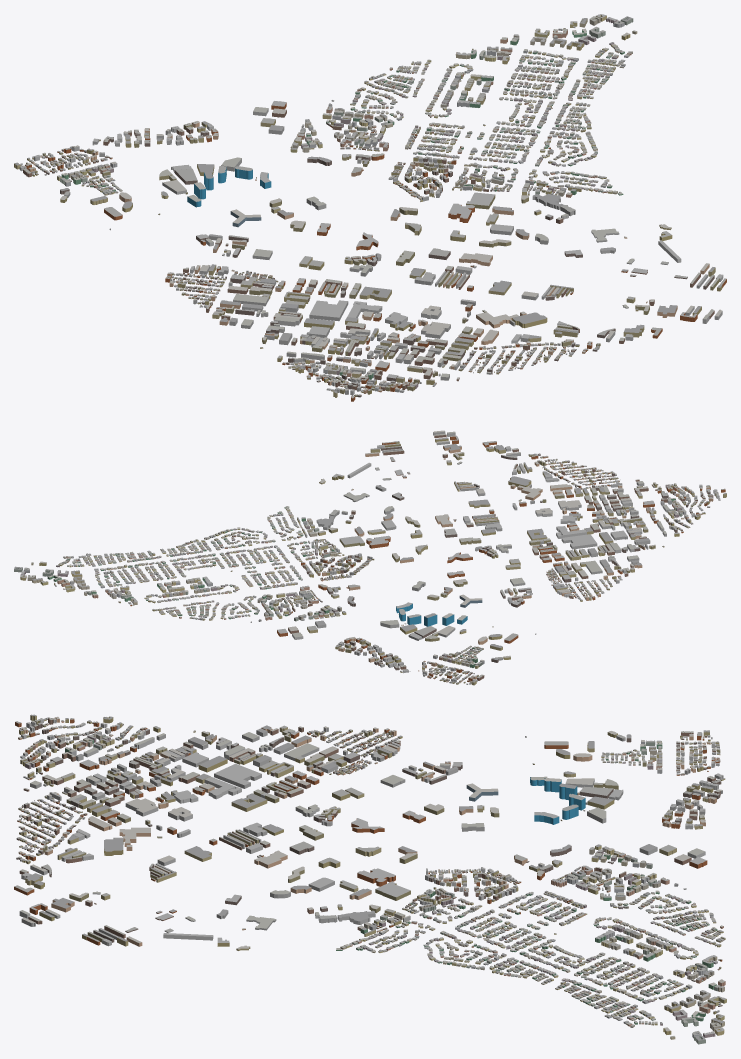
Rendered from ksql-buildings.glb.
3 renders of one model, top to bottom at view 1: azimuth 30°, elevation 25°; view 2: azimuth 150°, elevation 25°; view 3: azimuth 270°, elevation 25°, orthographic. The views are drawn at different scales.
Visible parts, largest first — view 1: map_5_osm_buildings; view 2: map_5_osm_buildings; view 3: map_5_osm_buildings.
Part boxes in pixels (x1,y1,x2,y2): map_5_osm_buildings: (14,14,726,401); map_5_osm_buildings: (14,430,726,685); map_5_osm_buildings: (14,714,726,1044).
Bounding box in the file's own units: 2934 × 81.23 × 2814.
